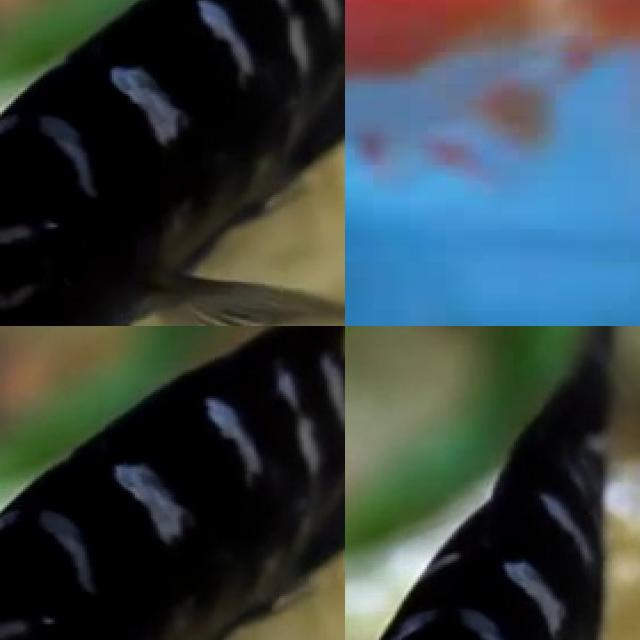fish: (0, 0, 345, 326), (0, 326, 345, 640)
